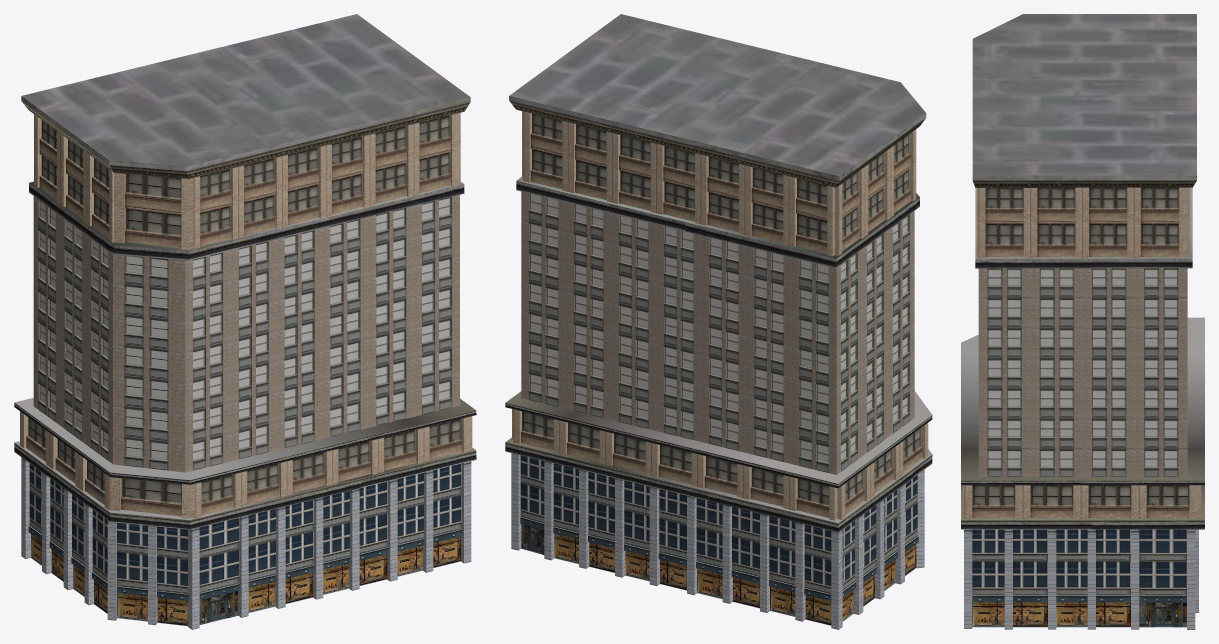
The model's file is game_ready_mid_poly_building_2.glb.
3 views of the same model, side by side, from view 1: azimuth 30°, elevation 25°; view 2: azimuth 150°, elevation 25°; view 3: azimuth 270°, elevation 25° (orthographic).
Visible parts, largest first — view 1: Plane.093_Atlas_0; view 2: Plane.093_Atlas_0; view 3: Plane.093_Atlas_0.
Boxes of the visible parts, box(x1,y1,x2,y2) form: Plane.093_Atlas_0: box(14, 14, 476, 629); Plane.093_Atlas_0: box(505, 14, 932, 629); Plane.093_Atlas_0: box(961, 14, 1204, 629).
Bounding box in the file's own units: 0.2544 × 0.3307 × 0.1608.
Materials: 1 (1 with a texture image).
